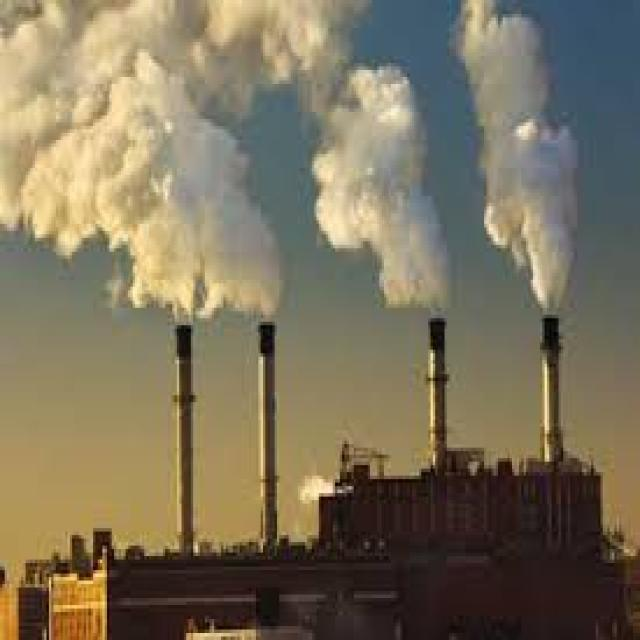Smoke: (272, 4, 596, 298), (2, 10, 300, 315)
